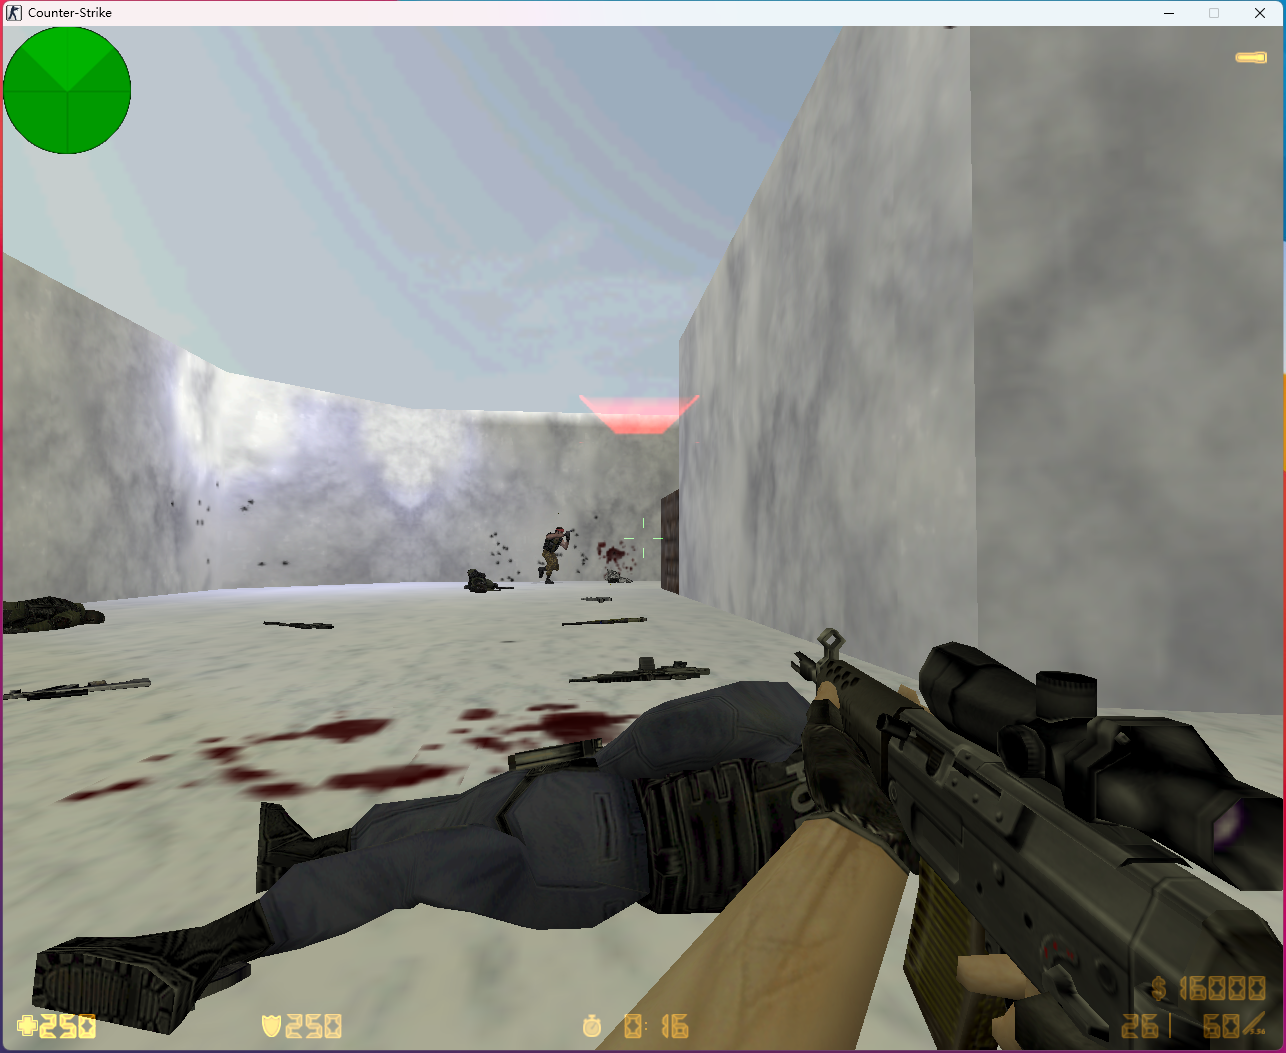C: (27, 683, 989, 1028), (1, 595, 101, 638)
dead: (534, 526, 575, 586)
weapon: (4, 671, 163, 705), (564, 660, 708, 685), (258, 618, 335, 632), (559, 619, 646, 628), (580, 596, 609, 603)
